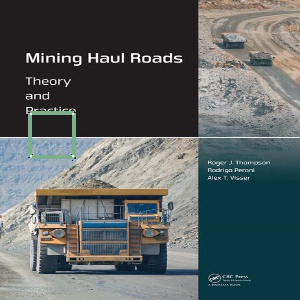square: (26, 110, 78, 161)
